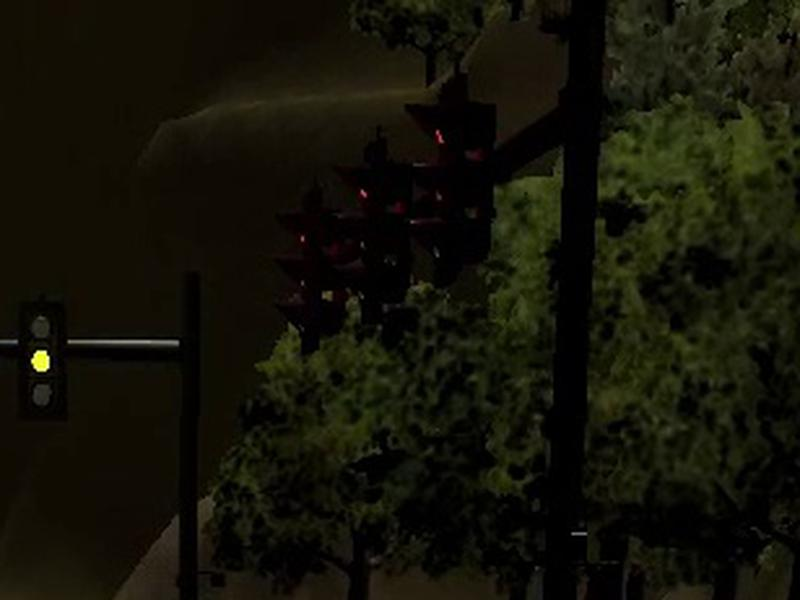Yellow: (18, 301, 69, 421)
